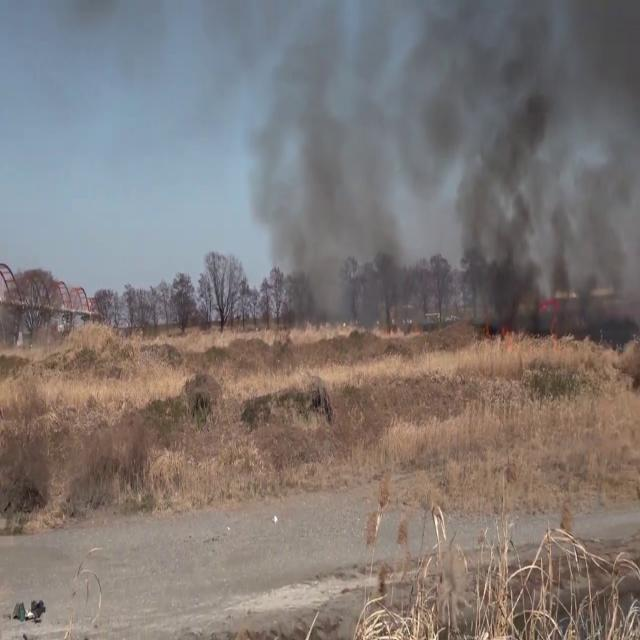Smoke: (421, 0, 640, 323), (240, 3, 426, 326)
